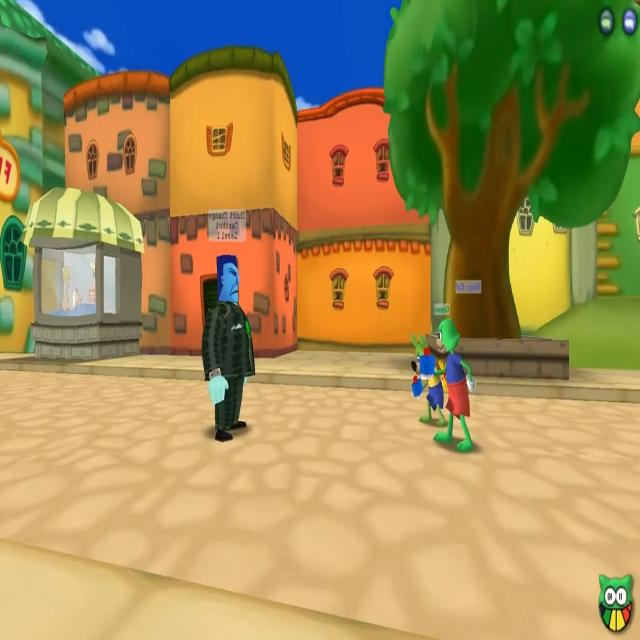shortchange: (202, 257, 256, 441)
